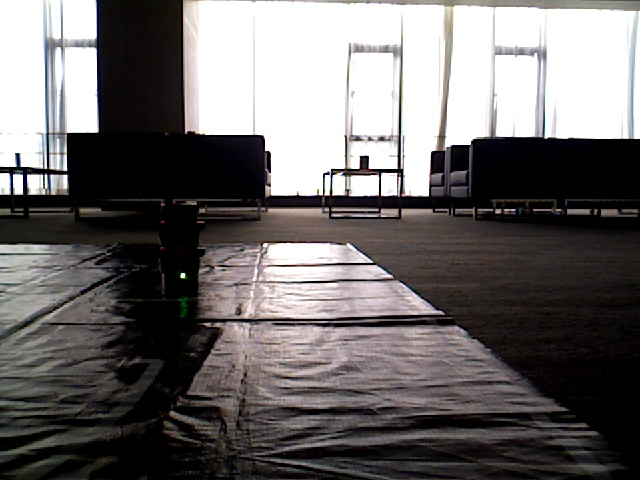green: (166, 204, 196, 287)
